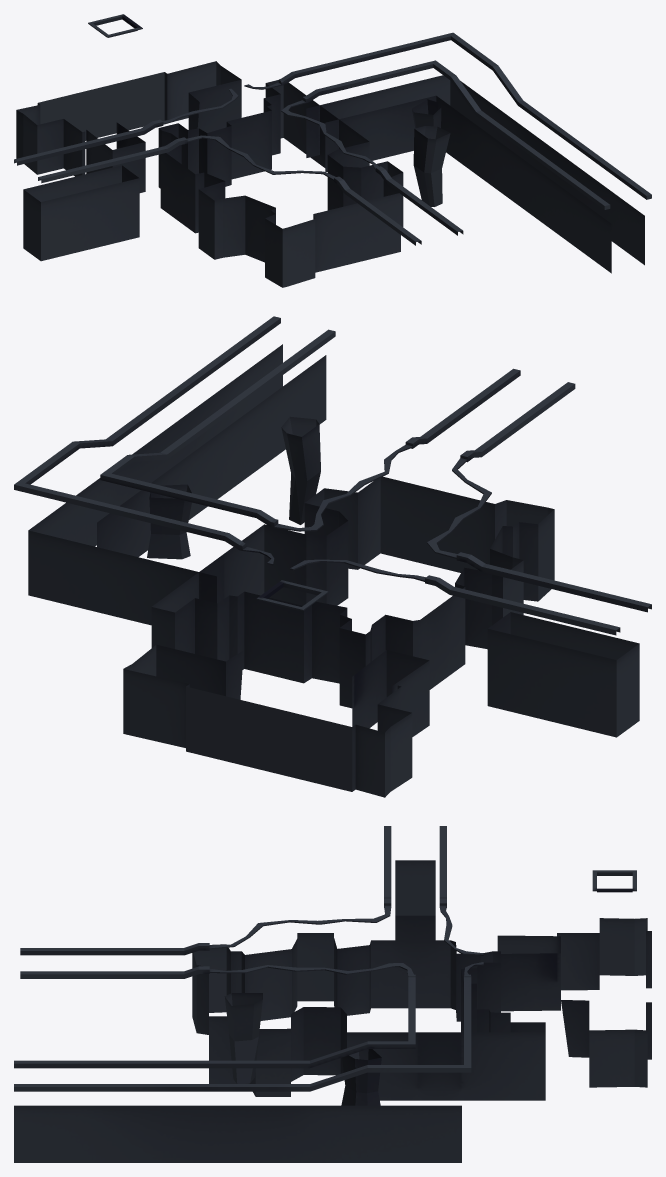
Rendered from Ground_04.FBX.
The picture shows the model from 3 angles, top to bottom: view 1: azimuth 30°, elevation 25°; view 2: azimuth 150°, elevation 25°; view 3: azimuth 270°, elevation 25°; orthographic projection. The views are drawn at different scales.
Parts seen in each view (by area): view 1: Ground_04; view 2: Ground_04; view 3: Ground_04.
Part boxes in pixels (x1=…): Ground_04: x1=14, y1=14, x2=651, y2=287; Ground_04: x1=14, y1=316, x2=651, y2=797; Ground_04: x1=14, y1=826, x2=651, y2=1162.
Size of the model in its own units: 49.07 by 12.98 by 52.37.
